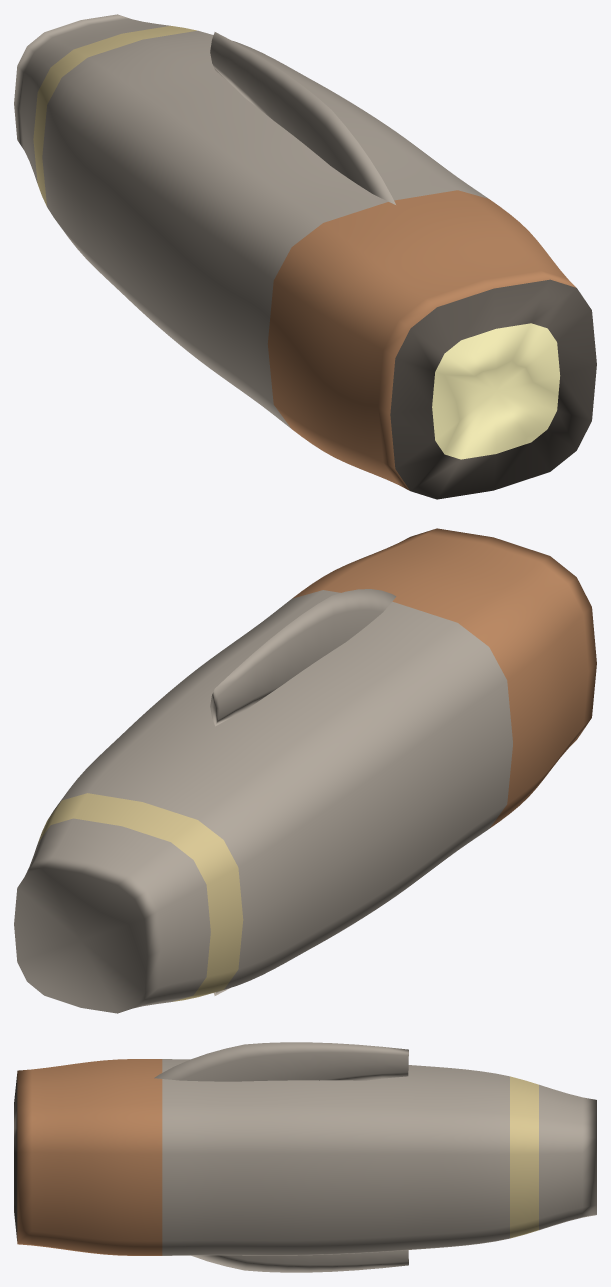
Rendered from tarsine_dn.glb.
3 views of the same model, one above another, from view 1: azimuth 30°, elevation 25°; view 2: azimuth 150°, elevation 25°; view 3: azimuth 270°, elevation 25° (orthographic). The views are drawn at different scales.
Parts seen in each view (by area): view 1: hull_mesh, limb_0_mesh; view 2: hull_mesh, limb_0_mesh; view 3: hull_mesh, limb_0_mesh, limb_1_mesh.
Part boxes in pixels (box(x1,y1,x2,y2)): hull_mesh: box(14, 14, 596, 499); limb_0_mesh: box(210, 32, 395, 204); hull_mesh: box(14, 528, 596, 1013); limb_0_mesh: box(210, 589, 396, 726); hull_mesh: box(14, 1059, 596, 1255); limb_0_mesh: box(154, 1042, 408, 1081); limb_1_mesh: box(191, 1250, 408, 1272).
Size of the model in its own units: 92.82 by 118 by 272.
